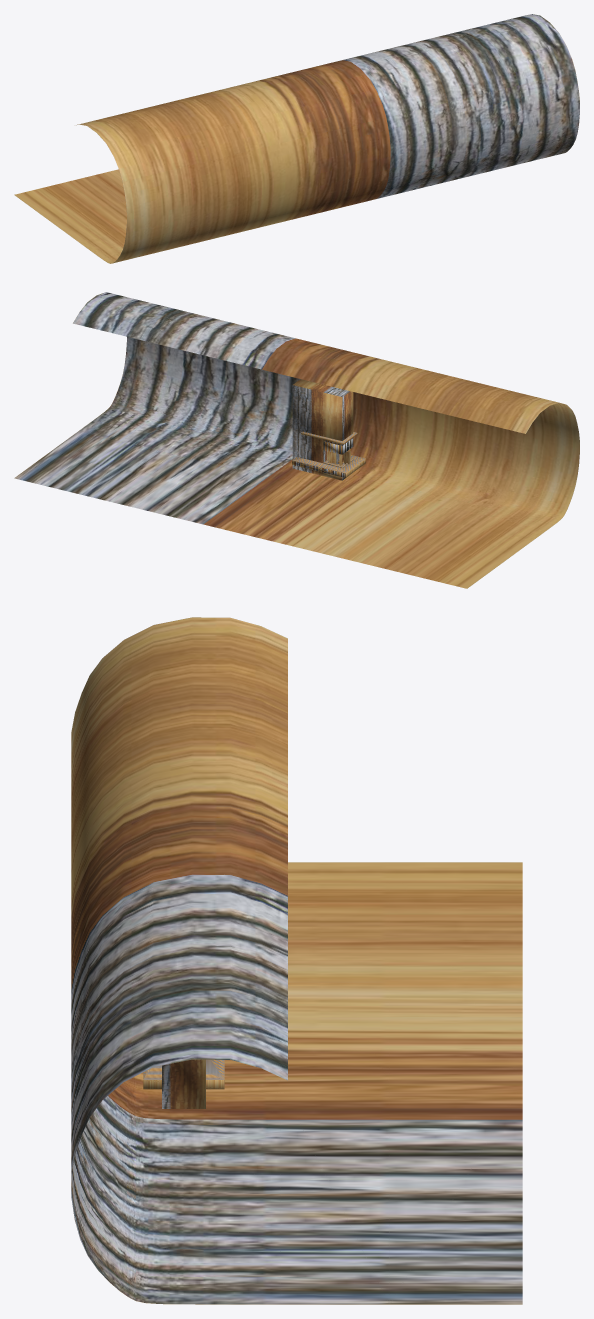
Rendered from fireplace.obj.
3 renders of one model, top to bottom at view 1: azimuth 30°, elevation 25°; view 2: azimuth 150°, elevation 25°; view 3: azimuth 270°, elevation 25°, orthographic. The views are drawn at different scales.
Visible parts, largest first — view 1: Fob; view 2: Fob, Line01, Rectangle03; view 3: Fob, Line01, Rectangle03.
Part boxes in pixels (bbox=[...]): Fob: bbox=[14, 14, 579, 263]; Fob: bbox=[14, 292, 579, 588]; Line01: bbox=[292, 379, 353, 480]; Rectangle03: bbox=[292, 431, 365, 477]; Fob: bbox=[71, 617, 522, 1304]; Line01: bbox=[162, 1059, 205, 1108]; Rectangle03: bbox=[143, 1059, 224, 1089].
Bounding box in the file's own units: 14811 × 3825 × 6392.
